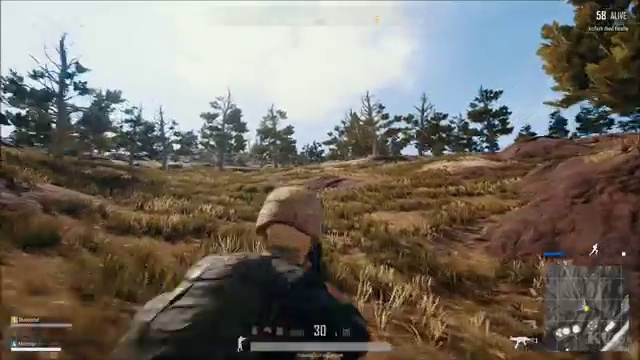Player: (127, 170, 389, 314)
